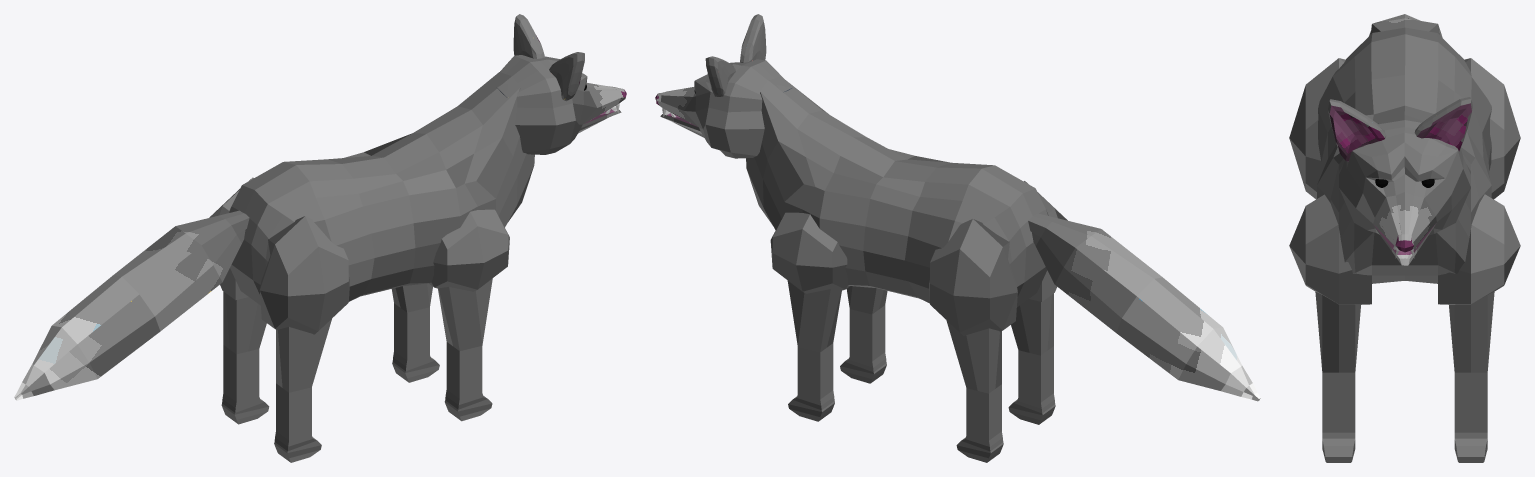
The model's file is wolf.gltf.
The picture shows the model from 3 angles, left to right: view 1: azimuth 30°, elevation 25°; view 2: azimuth 150°, elevation 25°; view 3: azimuth 270°, elevation 25°; orthographic projection. The views are drawn at different scales.
Visible parts, largest first — view 1: cube (×9), tail, head, left_ear (×2); view 2: cube (×9), tail, head, left_ear (×2); view 3: cube (×7), head, left_ear (×2), tail.
Boxes of the visible parts, x1,y1,x2,y2 form: cube (×9): (209, 72, 534, 462); tail: (14, 210, 249, 400); head: (496, 55, 626, 154); left_ear (×2): (513, 14, 584, 101); cube (×9): (746, 76, 1067, 462); tail: (1028, 213, 1260, 401); head: (655, 59, 792, 158); left_ear (×2): (705, 14, 766, 96); cube (×7): (1289, 27, 1520, 462); head: (1339, 120, 1470, 265); left_ear (×2): (1328, 97, 1472, 161); tail: (1369, 14, 1442, 37).
Bounding box in the file's own units: 1.68 × 0.8841 × 0.4375.
Materials: 6 (6 with a texture image).
